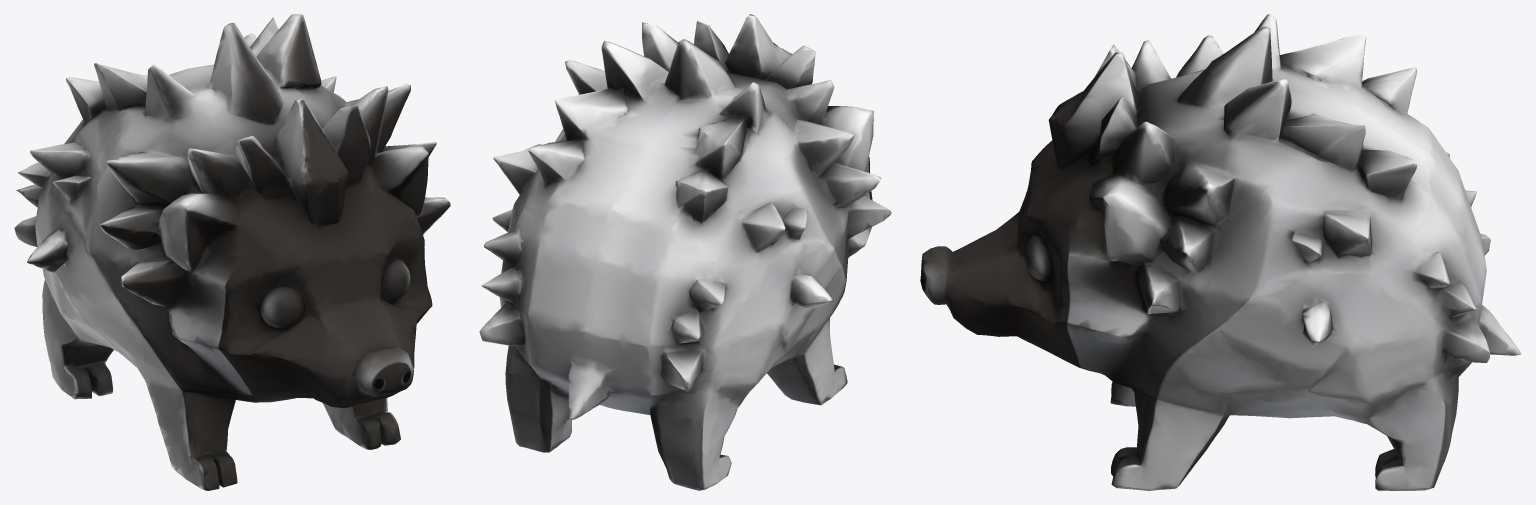
The model's file is hedgehog.glb.
The picture shows the model from 3 angles, left to right: view 1: azimuth 30°, elevation 25°; view 2: azimuth 150°, elevation 25°; view 3: azimuth 270°, elevation 25°; orthographic projection. The views are drawn at different scales.
Visible parts, largest first — view 1: tripo_node_f4280d4e-fdfc-494c-a3fd-bad01881378e; view 2: tripo_node_f4280d4e-fdfc-494c-a3fd-bad01881378e; view 3: tripo_node_f4280d4e-fdfc-494c-a3fd-bad01881378e.
Part boxes in pixels (x1=…): tripo_node_f4280d4e-fdfc-494c-a3fd-bad01881378e: x1=14, y1=14, x2=450, y2=490; tripo_node_f4280d4e-fdfc-494c-a3fd-bad01881378e: x1=479, y1=14, x2=891, y2=490; tripo_node_f4280d4e-fdfc-494c-a3fd-bad01881378e: x1=920, y1=14, x2=1521, y2=490.
Size of the model in its own units: 0.7242 by 0.7601 by 1.
1 material, 1 textured.
